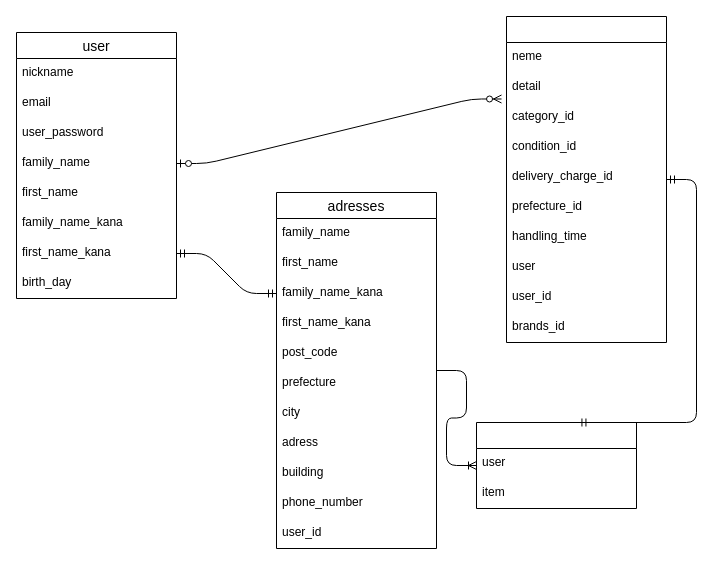
Some shapes in this 713 by 565 pixel diagram are drawn without their labels. Each missing label, with the box of its shape:
histories: (476, 422, 636, 508)
items: (506, 16, 666, 342)
